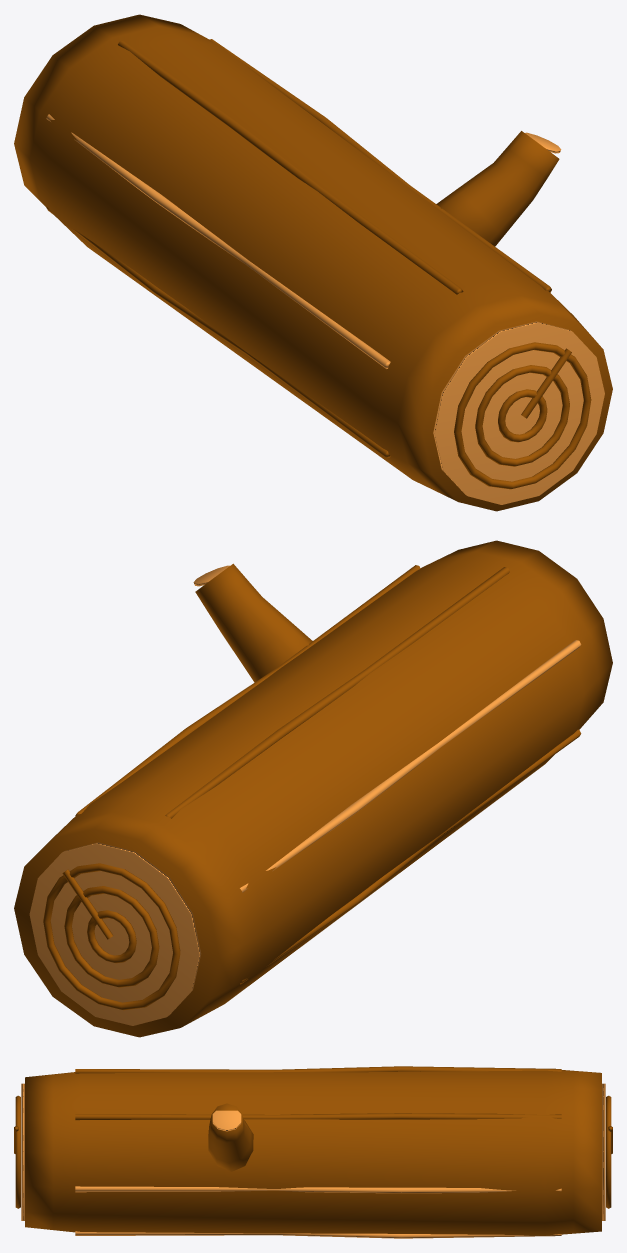
Rendered from Log.glb.
3 renders of one model, top to bottom at view 1: azimuth 30°, elevation 25°; view 2: azimuth 150°, elevation 25°; view 3: azimuth 270°, elevation 25°, orthographic. The views are drawn at different scales.
Visible parts, largest first — view 1: Body, EndGrain, Bark, Branch; view 2: Body, EndGrain, Bark, Branch; view 3: Body, Bark, EndGrain, Branch.
Part boxes in pixels (x1=…): Body: x1=14, y1=14, x2=612, y2=511; EndGrain: x1=433, y1=321, x2=604, y2=504; Bark: x1=46, y1=39, x2=551, y2=458; Branch: x1=436, y1=131, x2=561, y2=246; Body: x1=14, y1=540, x2=612, y2=1037; EndGrain: x1=29, y1=842, x2=201, y2=1025; Bark: x1=75, y1=565, x2=581, y2=984; Branch: x1=193, y1=563, x2=312, y2=682; Body: x1=25, y1=1070, x2=601, y2=1235; Bark: x1=75, y1=1066, x2=561, y2=1238; EndGrain: x1=14, y1=1083, x2=612, y2=1220; Branch: x1=208, y1=1103, x2=253, y2=1171.
Bounding box in the file's own units: 0.5397 × 0.437 × 1.34.
Materials: 1 (1 with a texture image).
